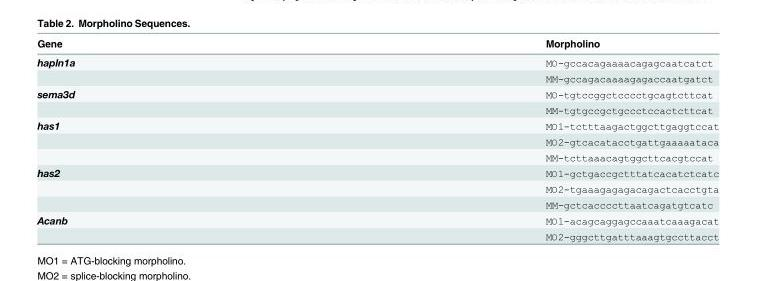table: (36, 36, 718, 241)
table column: (309, 36, 718, 241), (36, 36, 309, 241)
table column header: (36, 36, 718, 52)
table row: (36, 52, 718, 70), (36, 85, 718, 102), (36, 117, 718, 134), (36, 164, 718, 181), (36, 211, 718, 228), (36, 36, 718, 52), (36, 181, 718, 197), (36, 70, 718, 85), (36, 102, 718, 117), (36, 134, 718, 149), (36, 149, 718, 164), (36, 197, 718, 211), (36, 228, 718, 241)
table spanning cell: (36, 117, 309, 164), (36, 164, 309, 211), (36, 52, 309, 85), (36, 85, 309, 117), (36, 211, 309, 241)
